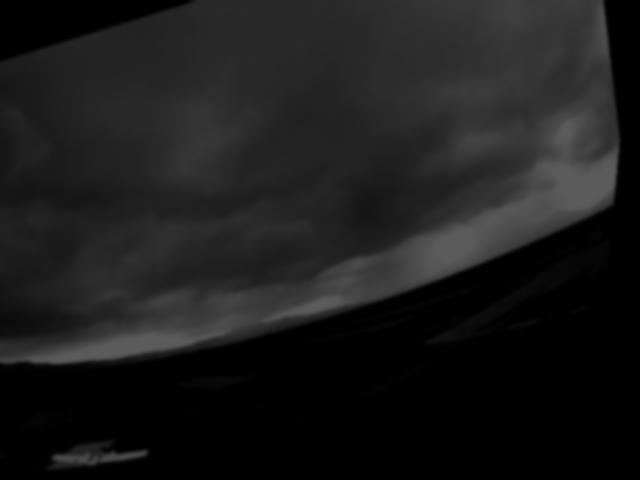hedef: (34, 420, 170, 474)
